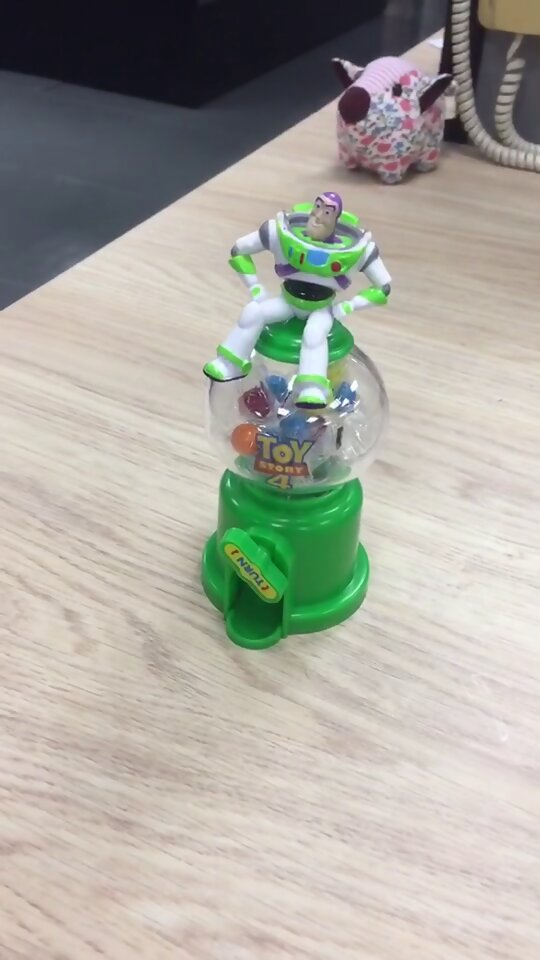buzz: (197, 188, 394, 661)
